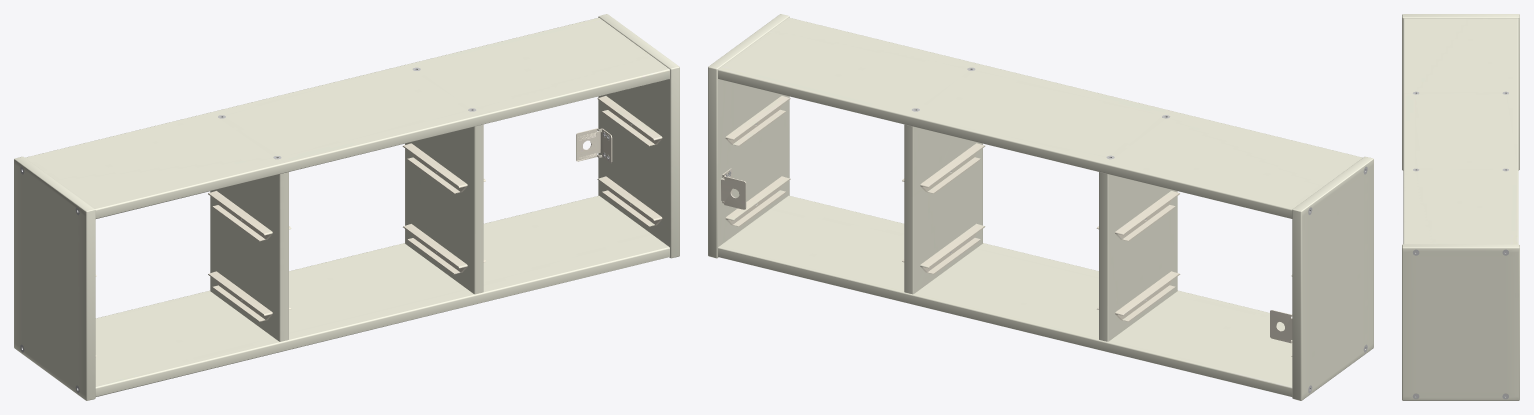
File: trofast_szafka_scienna_50171122.glb
3 views of the same model, side by side, from view 1: azimuth 30°, elevation 25°; view 2: azimuth 150°, elevation 25°; view 3: azimuth 270°, elevation 25° (orthographic). The views are drawn at different scales.
Visible parts, largest first — view 1: trofast_szafka_scienna_50171122; view 2: trofast_szafka_scienna_50171122; view 3: trofast_szafka_scienna_50171122.
Boxes of the visible parts, left/top/right/bottom form: trofast_szafka_scienna_50171122: left=14, top=14, right=679, bottom=400; trofast_szafka_scienna_50171122: left=708, top=14, right=1373, bottom=400; trofast_szafka_scienna_50171122: left=1402, top=14, right=1519, bottom=400.
Bounding box in the file's own units: 0.988 × 0.302 × 0.21.
Materials: 1 (1 with a texture image).
